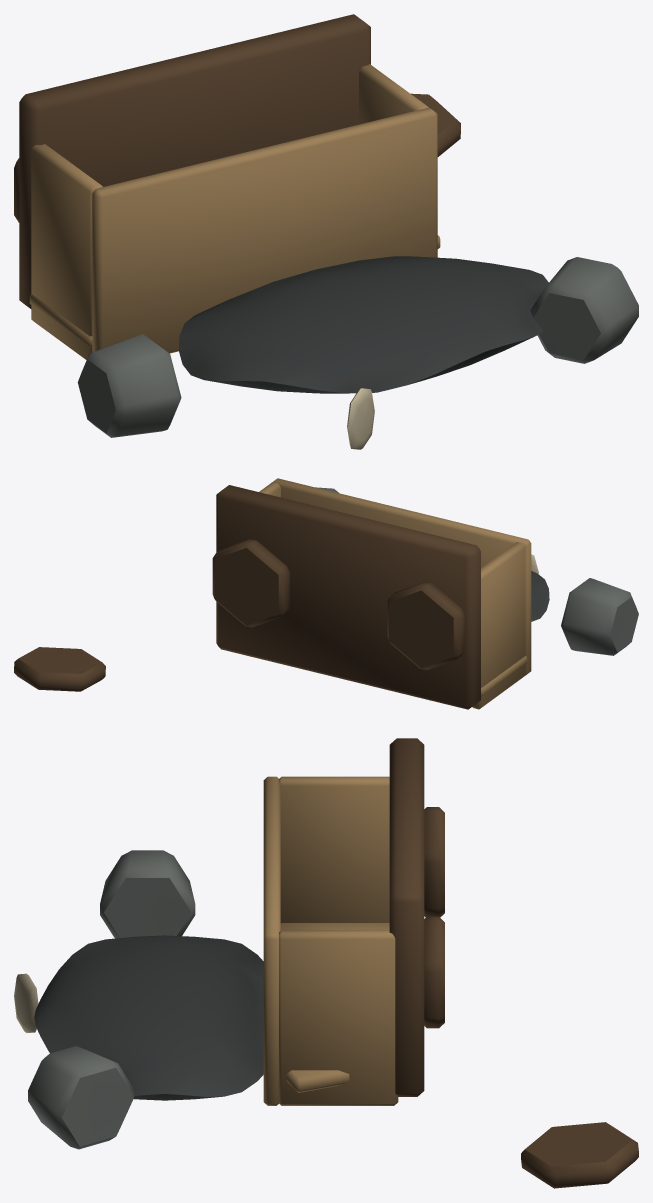
The model's file is tin_cart_b.glb.
3 renders of one model, top to bottom at view 1: azimuth 30°, elevation 25°; view 2: azimuth 150°, elevation 25°; view 3: azimuth 270°, elevation 25°, orthographic. The views are drawn at different scales.
Visible parts, largest first — view 1: Surface; view 2: Surface; view 3: Surface.
Part boxes in pixels (bbox=[...]): Surface: bbox=[14, 14, 638, 449]; Surface: bbox=[14, 478, 638, 709]; Surface: bbox=[14, 738, 638, 1188].
Bounding box in the file's own units: 3.71 × 1.48 × 3.61.
